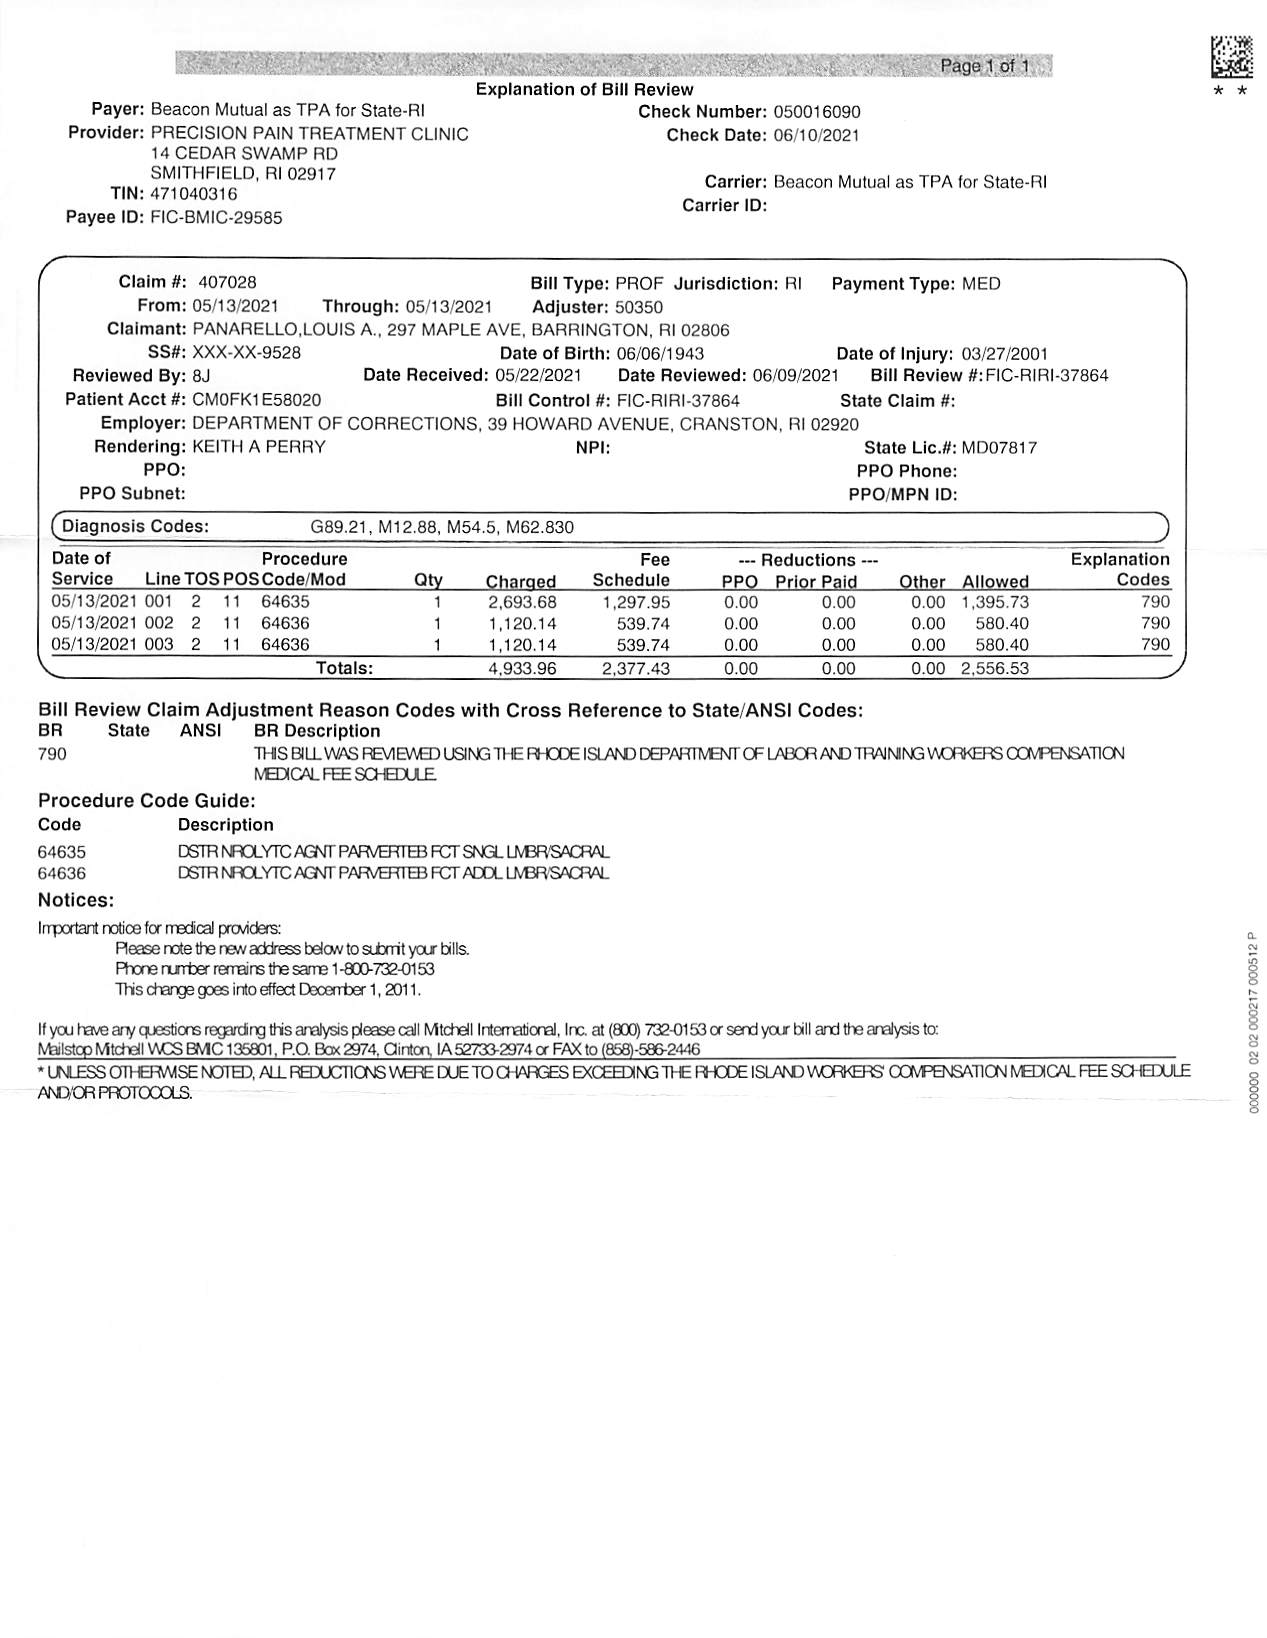data: (52, 266, 1119, 461), (55, 96, 480, 233), (634, 98, 1060, 231)
table: (24, 533, 1205, 689)
